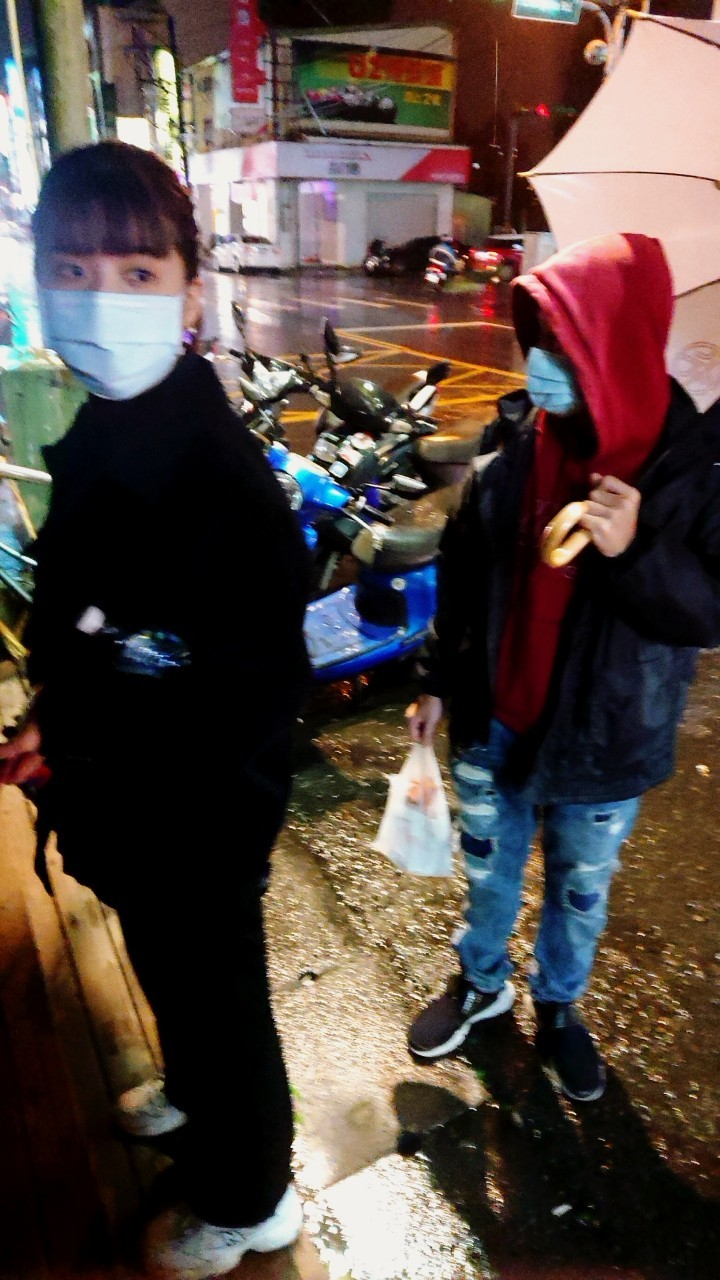people: (22, 153, 305, 1261), (469, 239, 707, 1098)
